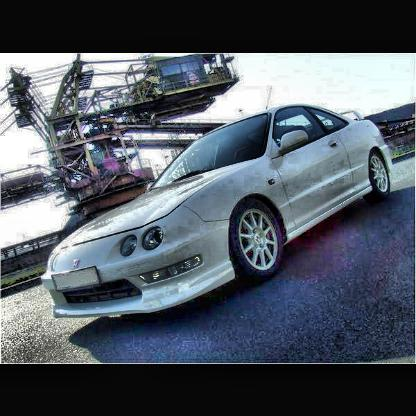Acura Integra Type R 2001: (41, 104, 395, 321)
